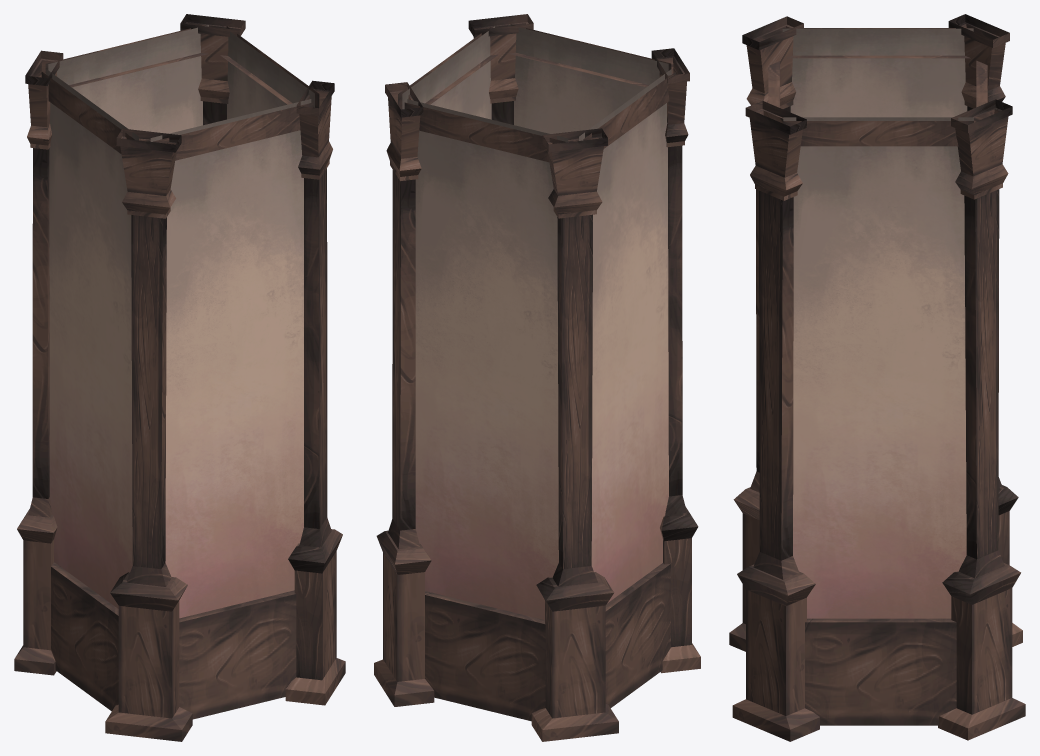
Rendered from Wall_Full_Half_Pillar_LOD1.fbx.
The picture shows the model from 3 angles, left to right: view 1: azimuth 30°, elevation 25°; view 2: azimuth 150°, elevation 25°; view 3: azimuth 270°, elevation 25°; orthographic projection. The views are drawn at different scales.
Visible parts, largest first — view 1: Full_HalfPillar_LOD1; view 2: Full_HalfPillar_LOD1; view 3: Full_HalfPillar_LOD1.
Part boxes in pixels (left/top/right/bottom): Full_HalfPillar_LOD1: left=14, top=14, right=345, bottom=741; Full_HalfPillar_LOD1: left=374, top=14, right=700, bottom=741; Full_HalfPillar_LOD1: left=729, top=14, right=1025, bottom=741.
Size of the model in its own units: 0.0184 by 0.0424 by 0.0186.
